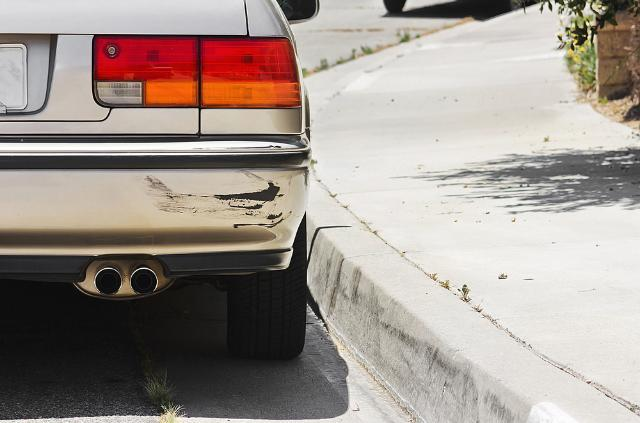scratch: (138, 171, 293, 230)
